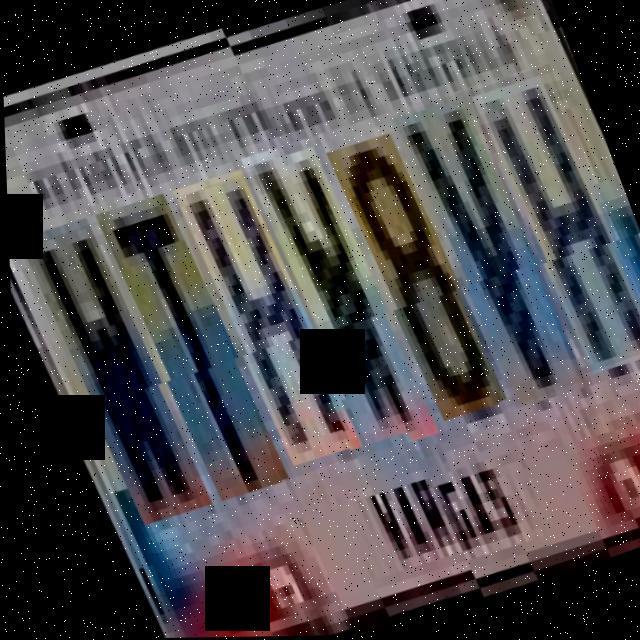8: (321, 122, 503, 427)
H: (171, 169, 361, 485), (466, 64, 640, 380)
T: (94, 193, 289, 519)
V: (389, 88, 583, 414)
W: (17, 218, 212, 544), (239, 136, 434, 462)
